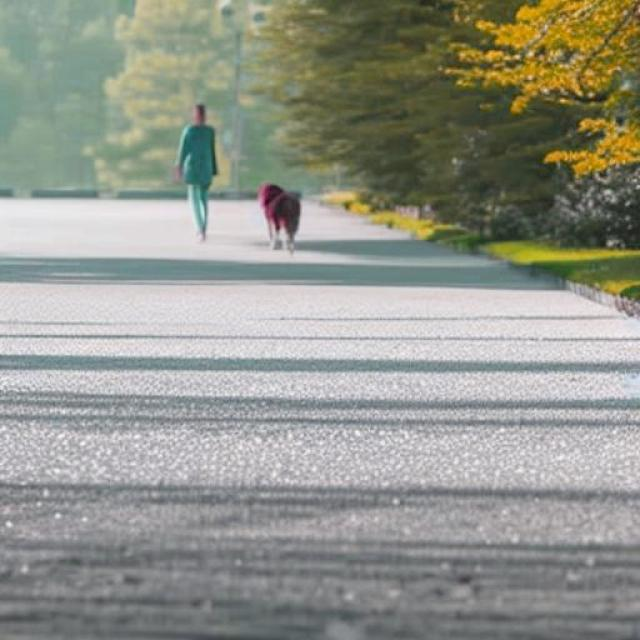Unleashed_Dog: (185, 166, 302, 253)
